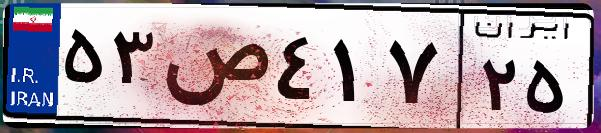1: (330, 28, 385, 110)
2: (475, 38, 525, 113)
3: (110, 28, 158, 98)
4: (270, 28, 330, 110)
5: (57, 26, 110, 100), (525, 38, 570, 115)
7: (385, 28, 445, 110)
ص: (158, 20, 270, 120)
